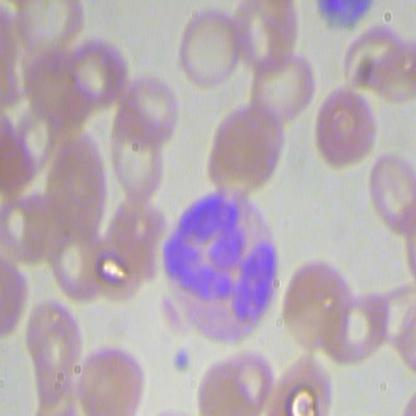Platelets: (170, 341, 192, 376)
RBC: (201, 101, 285, 196), (40, 131, 107, 247), (280, 256, 357, 355), (107, 110, 174, 207), (174, 4, 245, 87), (311, 86, 382, 168), (114, 66, 185, 148), (75, 334, 146, 415), (230, 1, 304, 76), (195, 349, 278, 415), (248, 53, 318, 129), (26, 295, 85, 376), (270, 355, 341, 415), (369, 146, 415, 233)
WBC: (158, 180, 294, 347)
